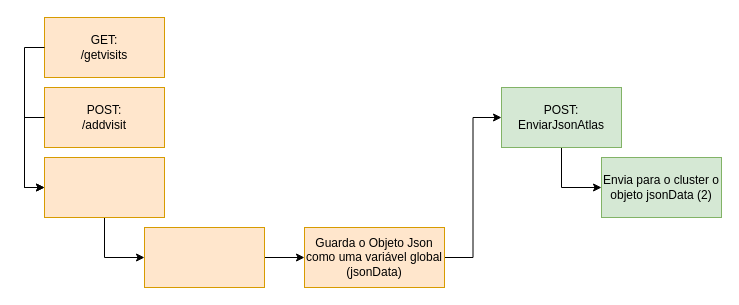
This 739x305 diagram has some shape labels left out. Here are the shapes that lost their labels. From the top down, the centre of each, then its label:
(x=104, y=187): Tests (1)
(x=204, y=257): Faz a passagem de XML para Json
